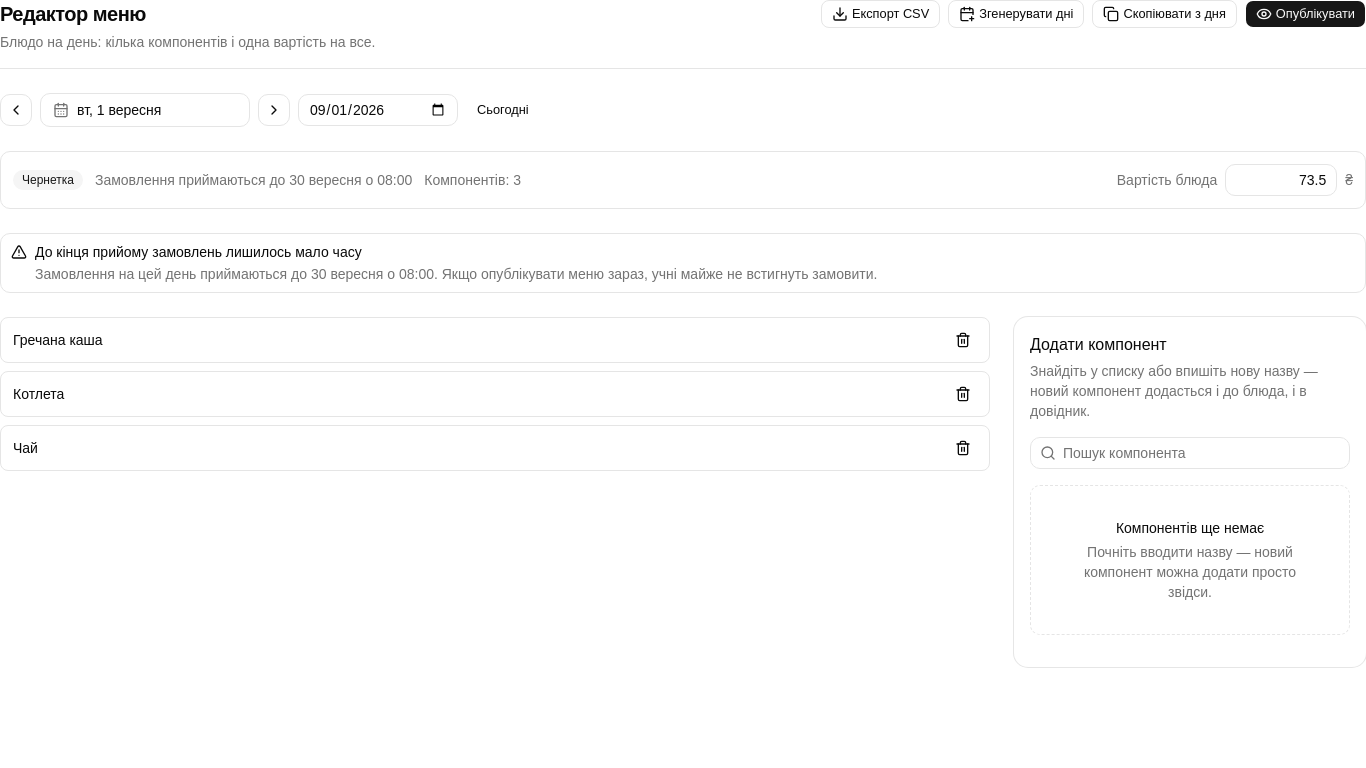
Test case: редактор меню › дозволяє скласти блюдо з довільних компонентів
The image size is (1366, 768).
expect the text "Гречана каша" is shown: met, box x1=13 y1=332 x2=103 y2=348
expect the text "Котлета" is shown: met, box x1=13 y1=386 x2=64 y2=402
Click the button "Опублікувати".
click(1305, 14)  # box x1=1245 y1=0 x2=1365 y2=28
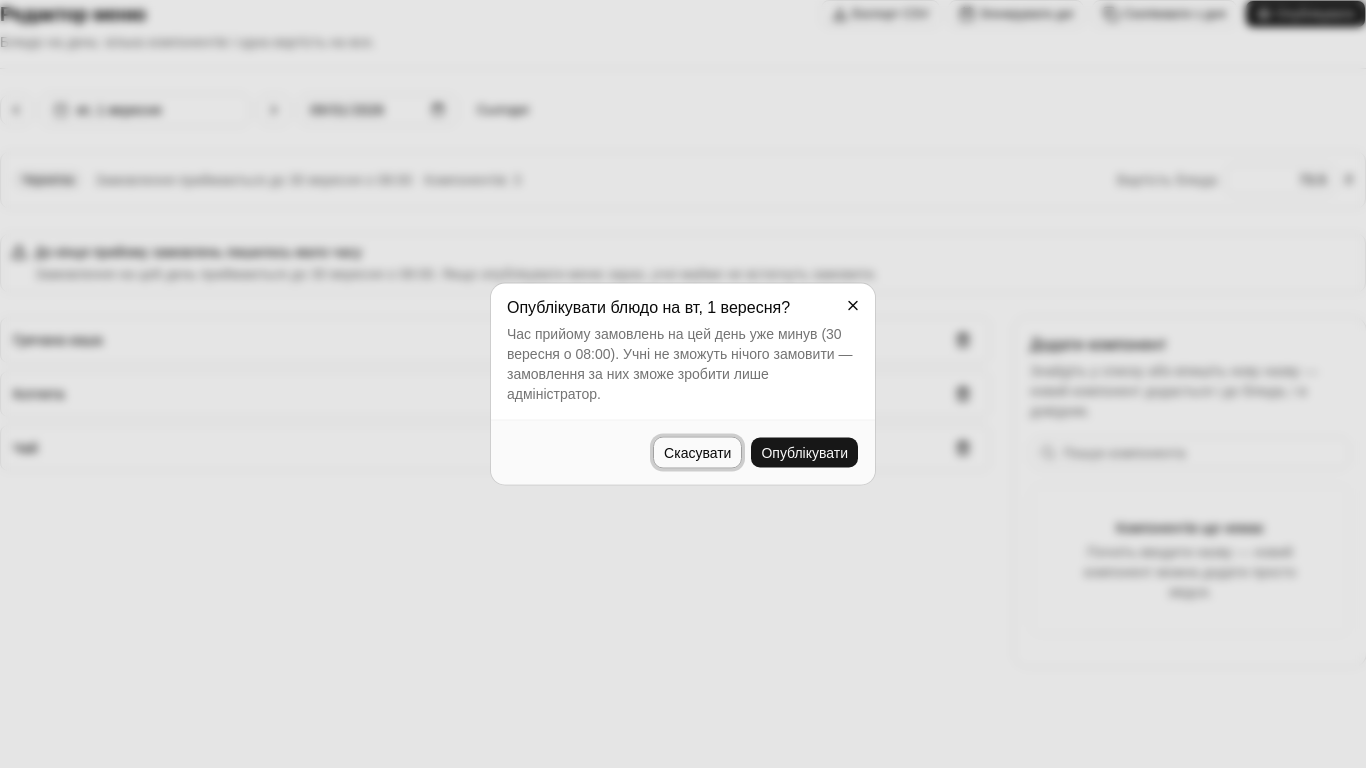
expect the dialog is shown: met, box x1=491 y1=284 x2=875 y2=484
